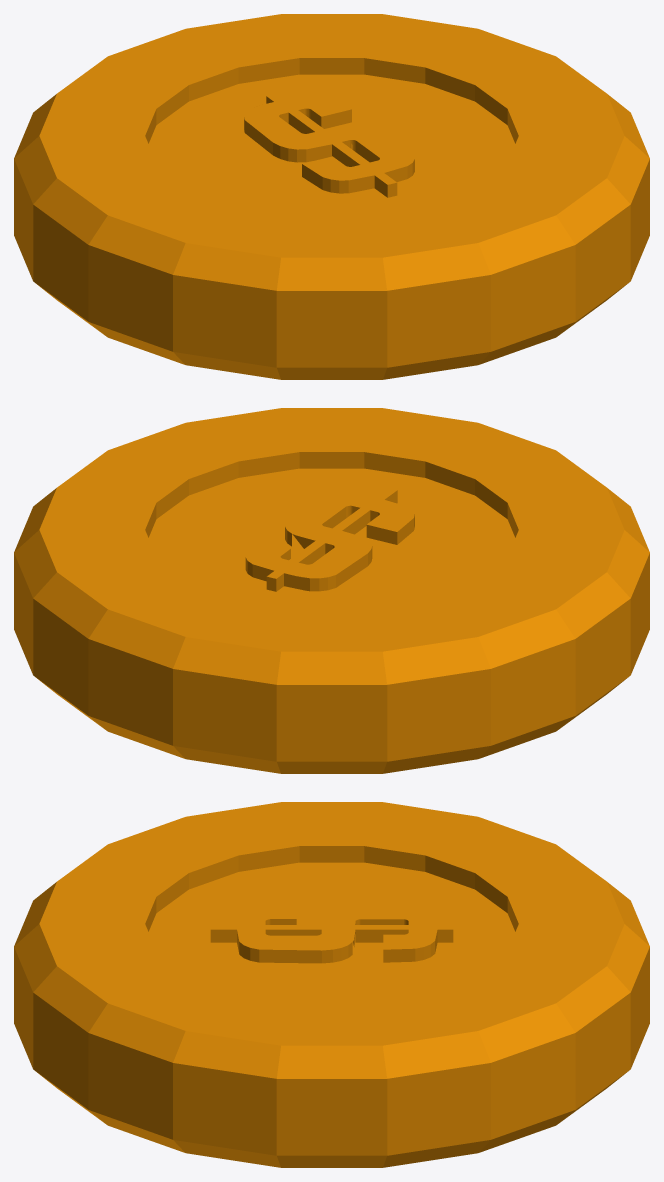
File: coin_new.glb
3 renders of one model, top to bottom at view 1: azimuth 30°, elevation 25°; view 2: azimuth 150°, elevation 25°; view 3: azimuth 270°, elevation 25°, orthographic.
Visible parts, largest first — view 1: Coins_New; view 2: Coins_New; view 3: Coins_New.
Part boxes in pixels (box(x1,y1,x2,y2)): Coins_New: box(14, 14, 649, 379); Coins_New: box(14, 408, 649, 773); Coins_New: box(14, 802, 649, 1167).
Size of the model in its own units: 1.97 by 0.4242 by 2.
